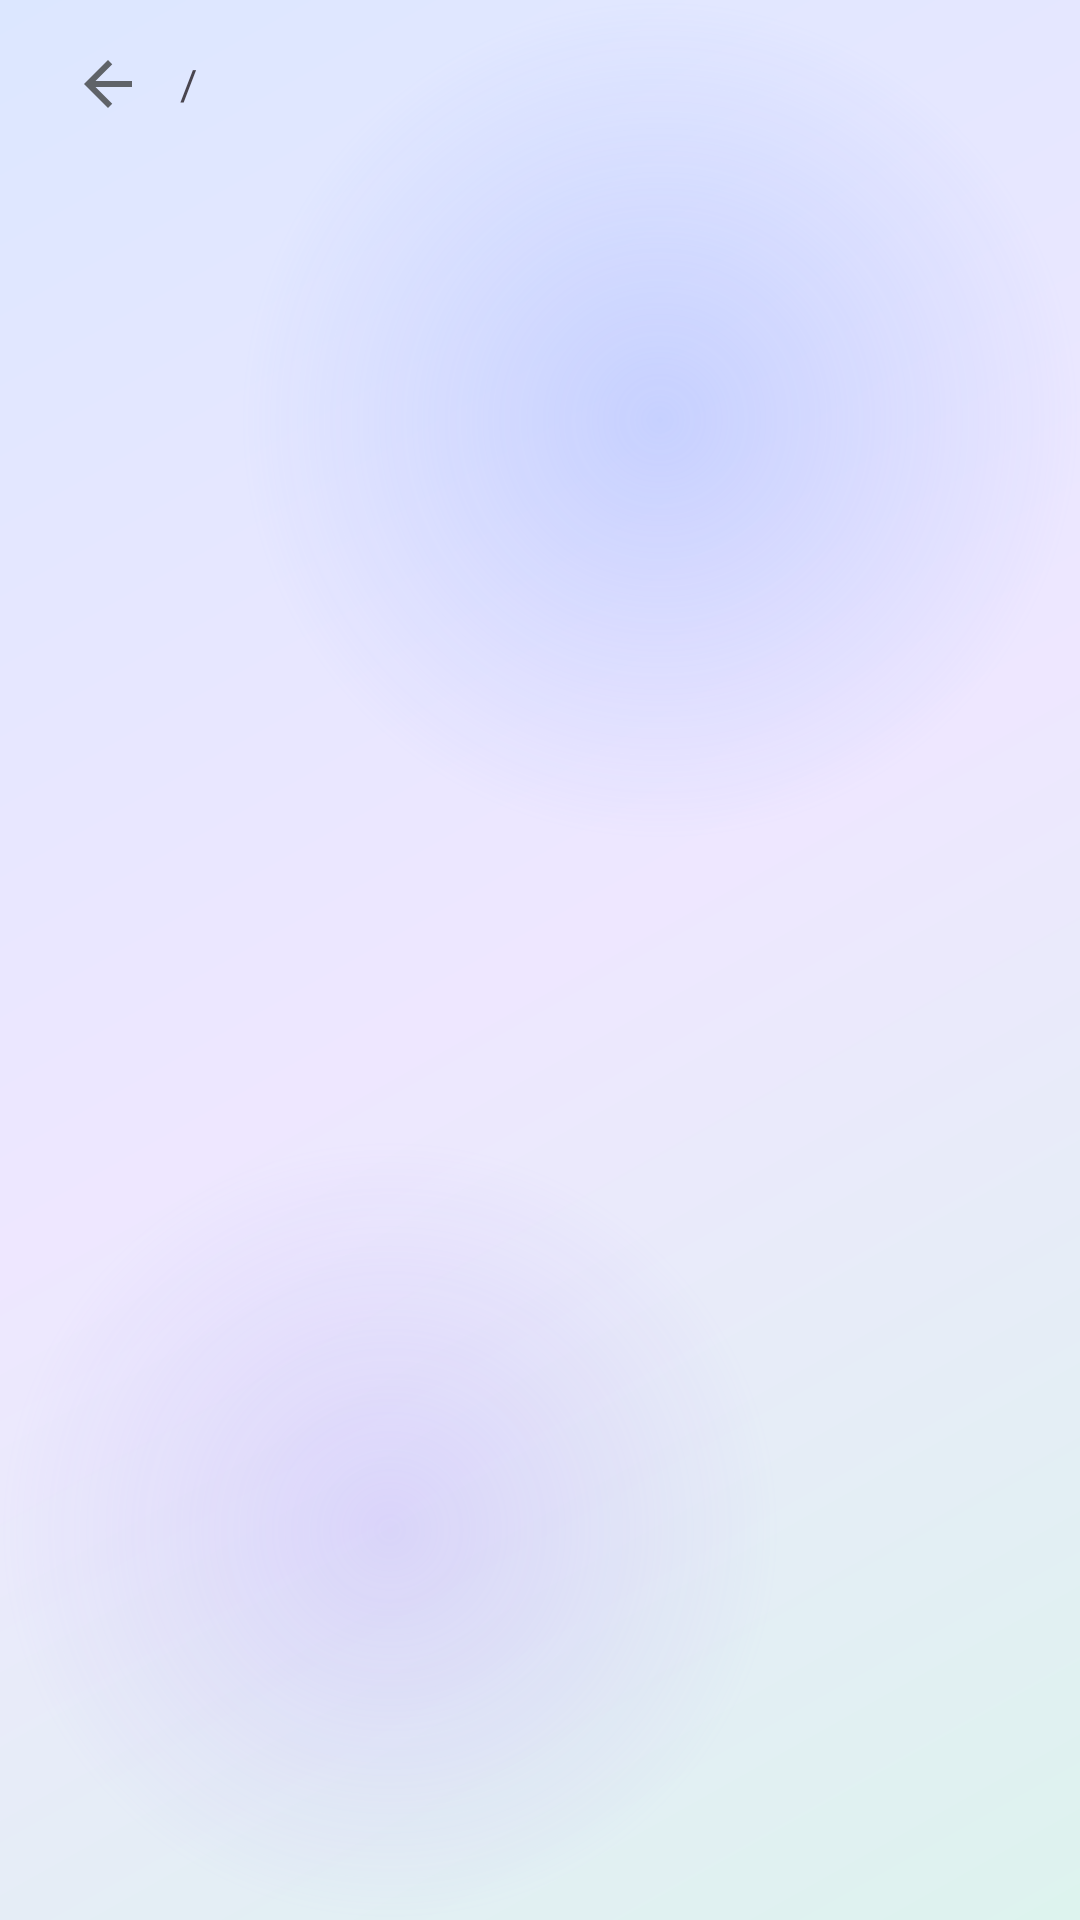

Where icons sit on this 1080x1920 app screen, as (x1, y1, x2, y2):
返回上一级: (84, 60, 132, 108)
